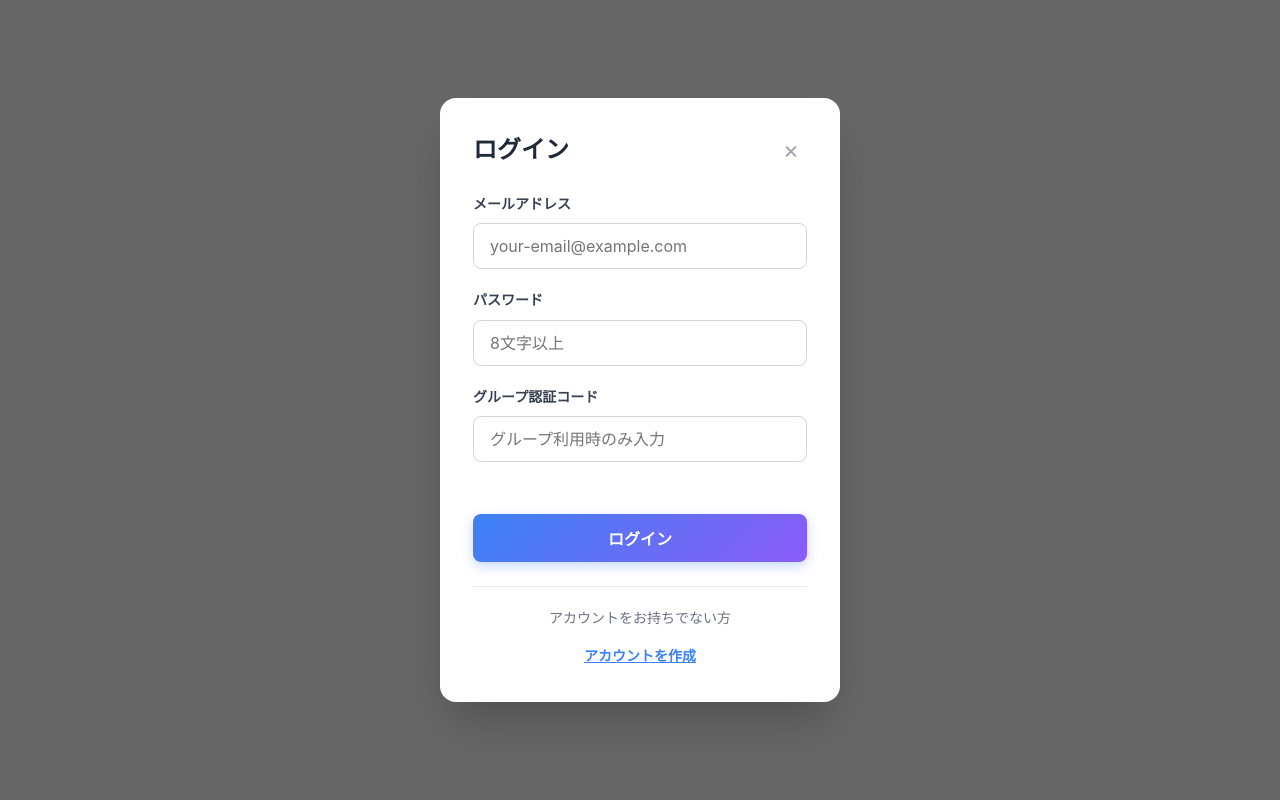
it: AuthModal with the group adapter › keeps the modal open with an error when the account has no group, and stores no token
Type "a@b.c" into the field labelled "メールアドレス" at (640, 246), box [473,223,807,269]
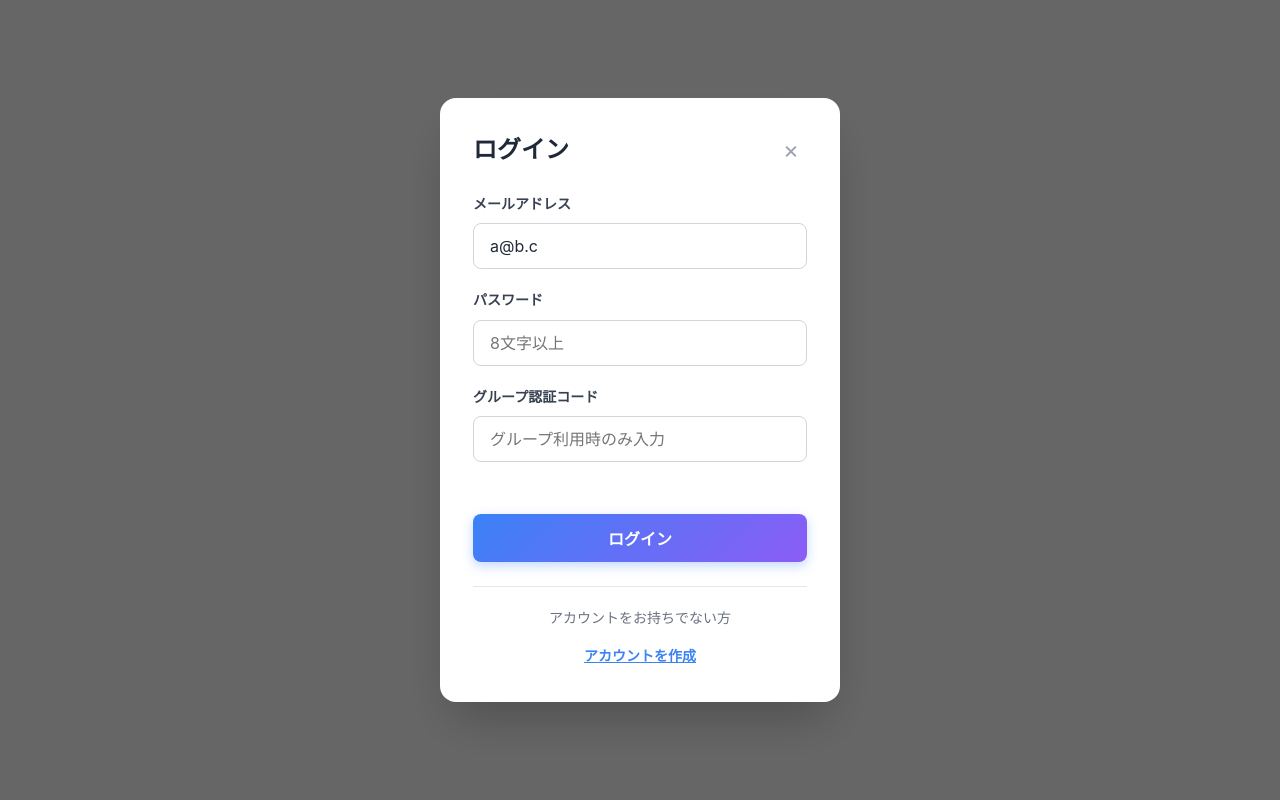
Type "password123" into the password field labelled "パスワード" at (640, 343), box [473,320,807,366]
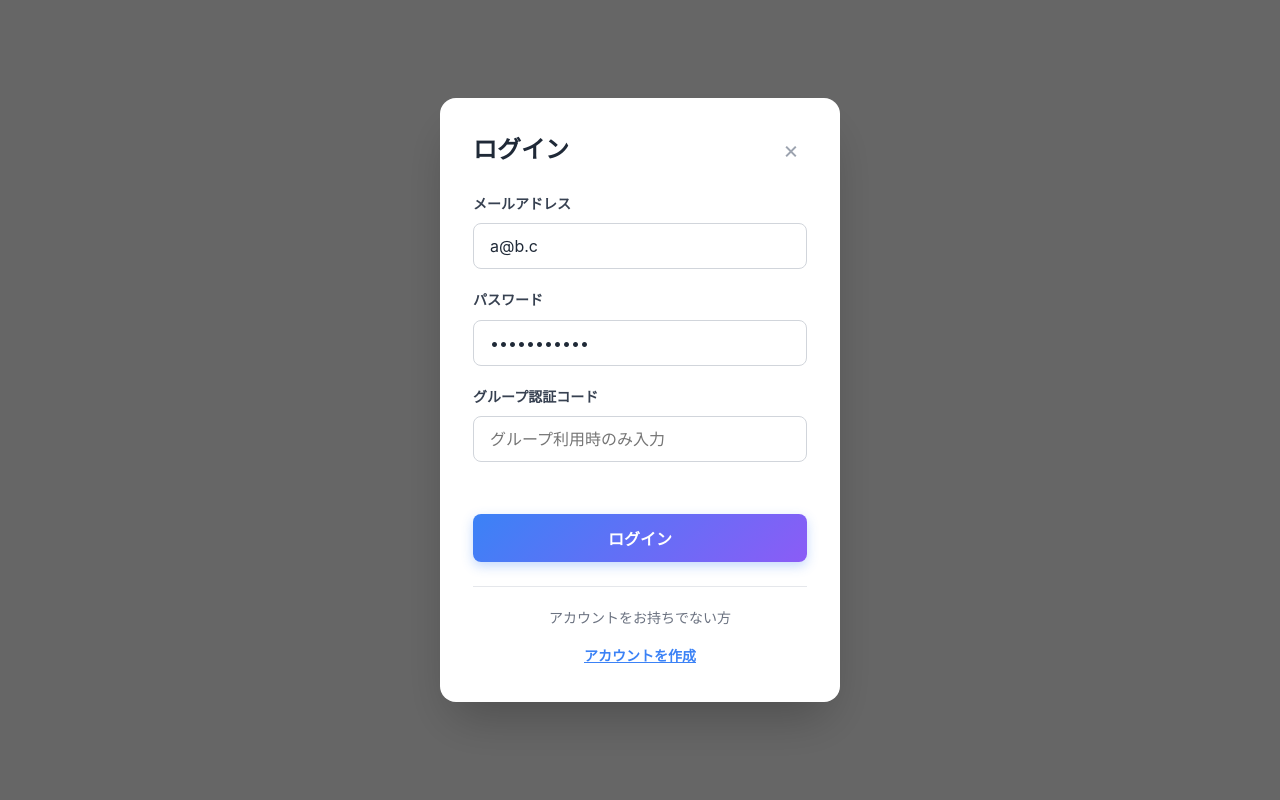
Click the button "ログイン" at (640, 538), box [473,514,807,562]
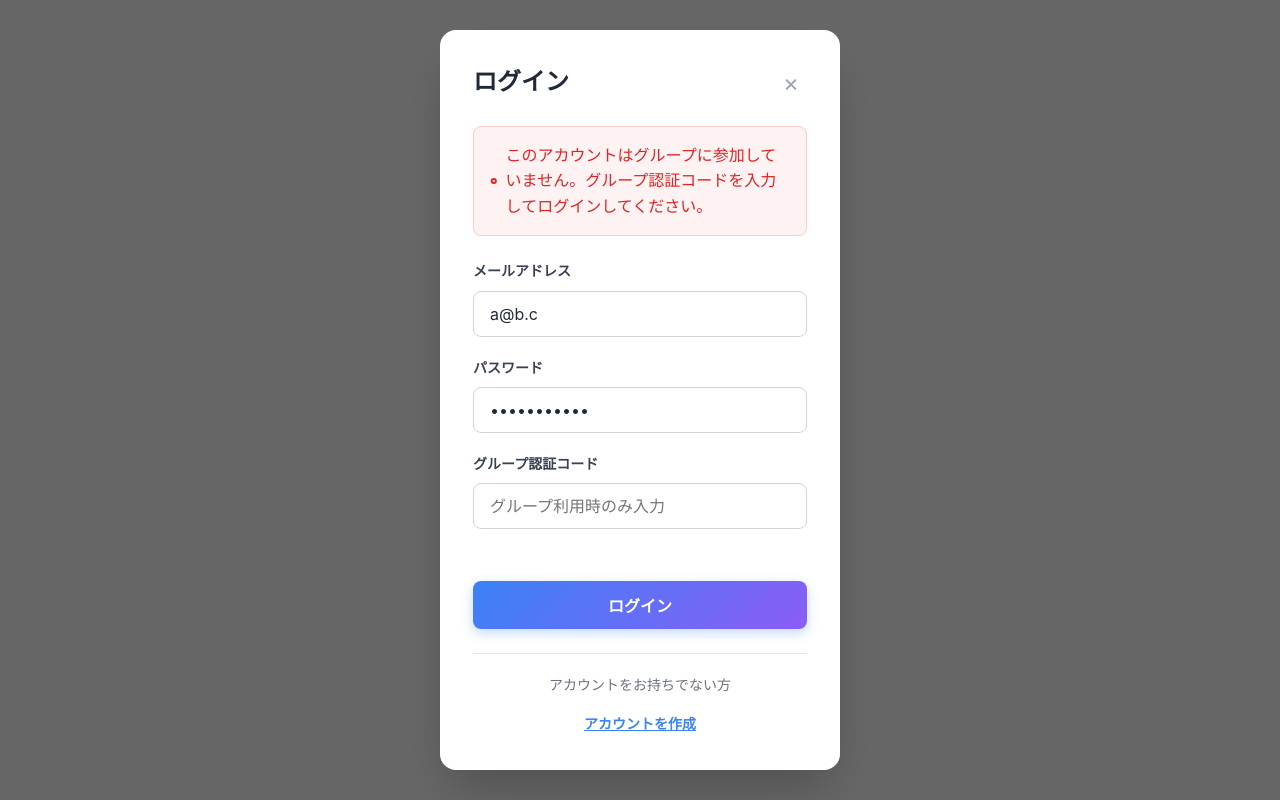
Expected: the text "このアカウントはグループに参加していません。グループ認証コードを入力してログインしてください。" is shown, [490,142,790,219]
